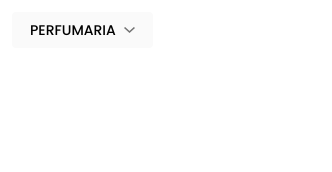
Test: NavItem › abre o dropdown pelo clique e fecha com Esc
Click the button "Perfumaria" at (82, 30), box [12,12,153,48]
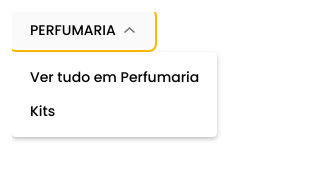
Expected: the button "Perfumaria" is expanded, [12,12,153,48]
Press Escape
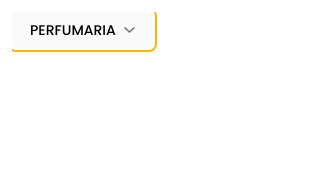
Expected: the button "Perfumaria" is collapsed, [12,12,153,48]
